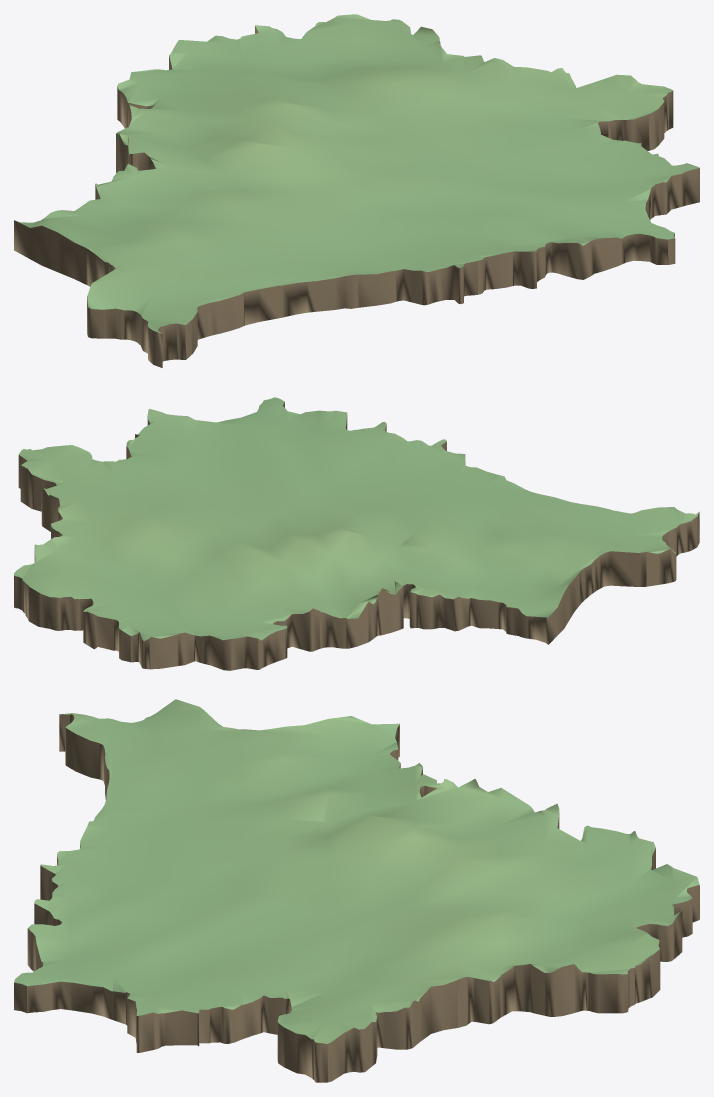
File: BLR.glb
3 views of the same model, one above another, from view 1: azimuth 30°, elevation 25°; view 2: azimuth 150°, elevation 25°; view 3: azimuth 270°, elevation 25° (orthographic). The views are drawn at different scales.
Parts seen in each view (by area): view 1: BLR; view 2: BLR; view 3: BLR.
Boxes of the visible parts, left/top/right/bottom form: BLR: left=14, top=14, right=699, bottom=367; BLR: left=14, top=397, right=699, bottom=670; BLR: left=14, top=699, right=699, bottom=1082.
Size of the model in its own units: 1.59 by 0.1365 by 1.34.
